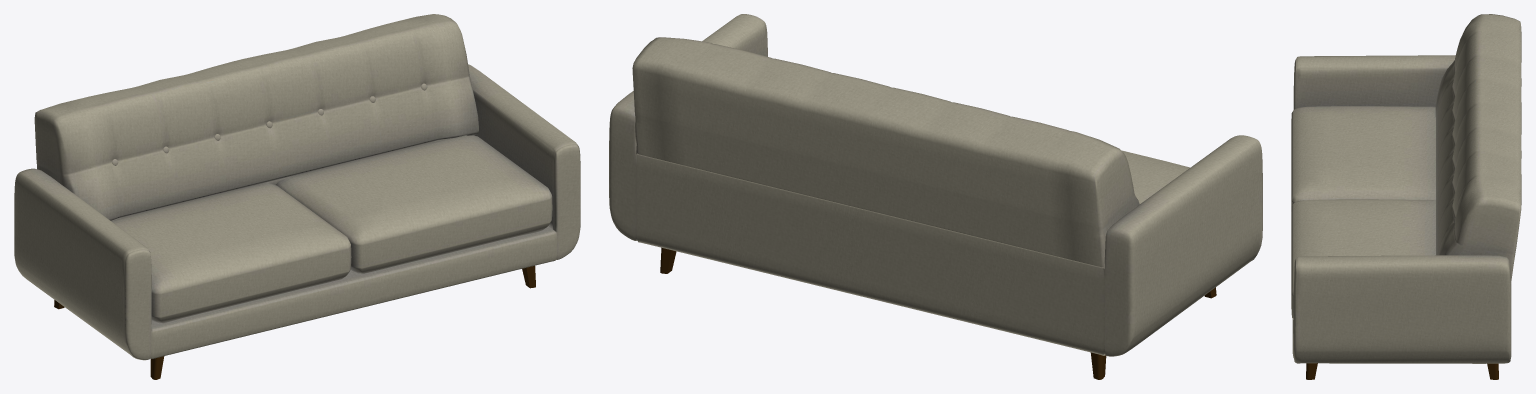
Rendered from rivet_sloane_sofa.glb.
The picture shows the model from 3 angles, left to right: view 1: azimuth 30°, elevation 25°; view 2: azimuth 150°, elevation 25°; view 3: azimuth 270°, elevation 25°; orthographic projection. The views are drawn at different scales.
Visible parts, largest first — view 1: RootNode; view 2: RootNode; view 3: RootNode.
Part boxes in pixels (x1,y1,x2,y2): RootNode: (14, 14, 580, 379); RootNode: (609, 14, 1262, 379); RootNode: (1291, 14, 1521, 379).
Size of the model in its own units: 2.14 by 0.8915 by 0.9805.
Materials: 1 (1 with a texture image).
